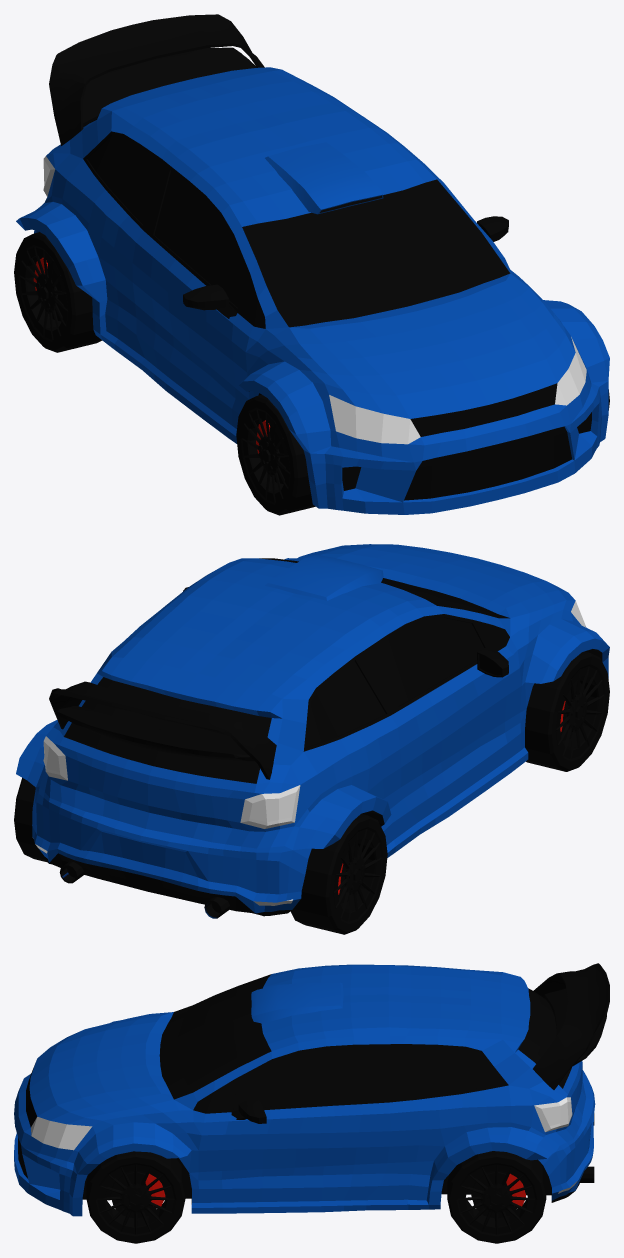
Rendered from VW  Polo.fbx.
The picture shows the model from 3 angles, top to bottom: view 1: azimuth 30°, elevation 25°; view 2: azimuth 150°, elevation 25°; view 3: azimuth 270°, elevation 25°; orthographic projection. The views are drawn at different scales.
Visible parts, largest first — view 1: car, wheelFL.005, wheelFL.004, headlights.002; view 2: car, wheelFL.005, wheelFL.004, rear lights, wheelFL.003; view 3: car, wheelFL.002, wheelFL.003, headlights.002, rear lights.
Boxes of the visible parts, x1,y1,x2,y2 form: car: (16,14,609,514); wheelFL.005: (14,232,101,352); wheelFL.004: (236,395,315,515); headlights.002: (329,337,586,444); car: (16,544,609,918); wheelFL.005: (290,814,387,934); wheelFL.004: (525,651,609,771); rear lights: (43,736,300,828); wheelFL.003: (14,777,46,861); car: (14,963,609,1216); wheelFL.002: (86,1151,185,1243); wheelFL.003: (447,1151,546,1243); headlights.002: (31,1117,92,1150); rear lights: (534,1097,572,1132).
Size of the model in its own units: 2.09 by 1.46 by 4.11.
